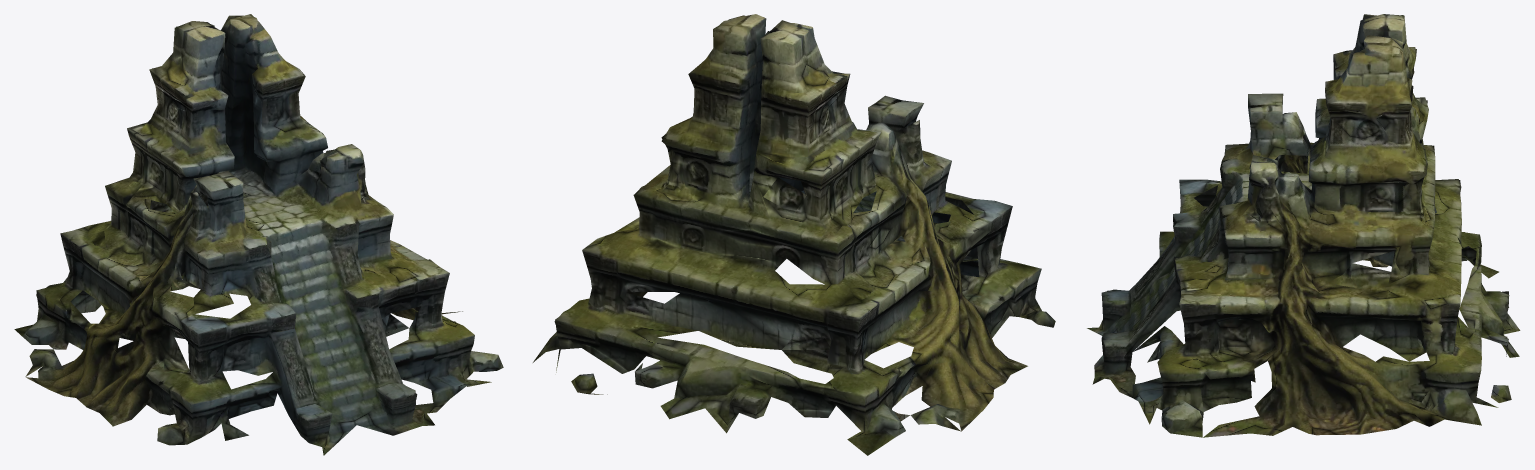
File: swamp-mountain-3.glb
3 views of the same model, side by side, from view 1: azimuth 30°, elevation 25°; view 2: azimuth 150°, elevation 25°; view 3: azimuth 270°, elevation 25° (orthographic). The views are drawn at different scales.
Parts seen in each view (by area): view 1: geometry_0; view 2: geometry_0; view 3: geometry_0.
Boxes of the visible parts, x1,y1,x2,y2 form: geometry_0: (14,14,503,455); geometry_0: (533,14,1055,455); geometry_0: (1087,14,1520,437).
Bounding box in the file's own units: 0.9432 × 0.7152 × 0.8753.
Materials: 1 (1 with a texture image).
